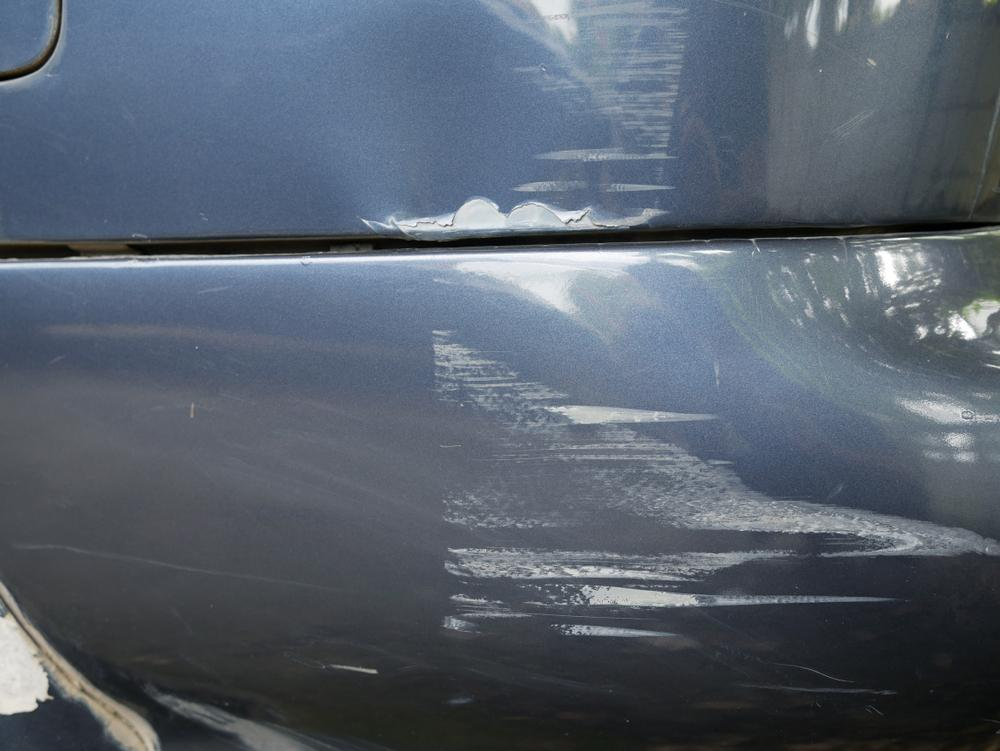scratch: (429, 330, 1000, 649), (506, 0, 697, 226)
